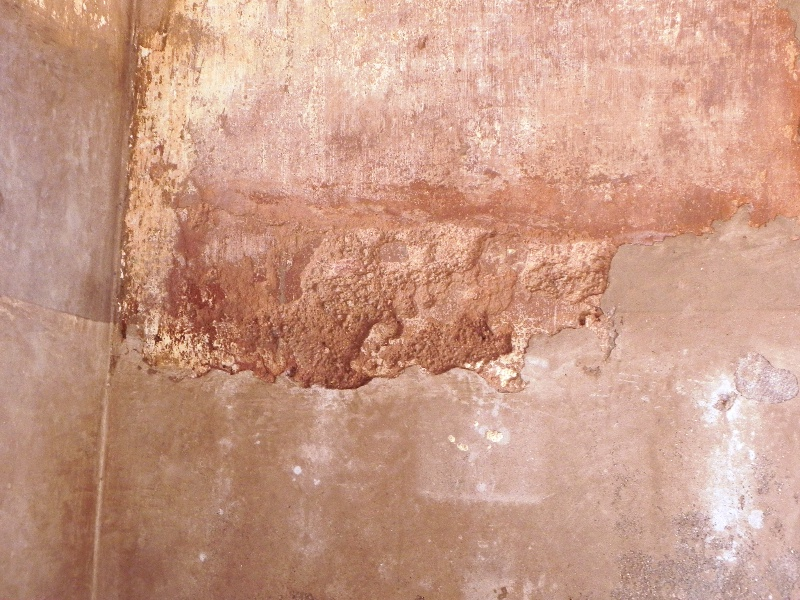Spalling: (141, 192, 628, 394)
